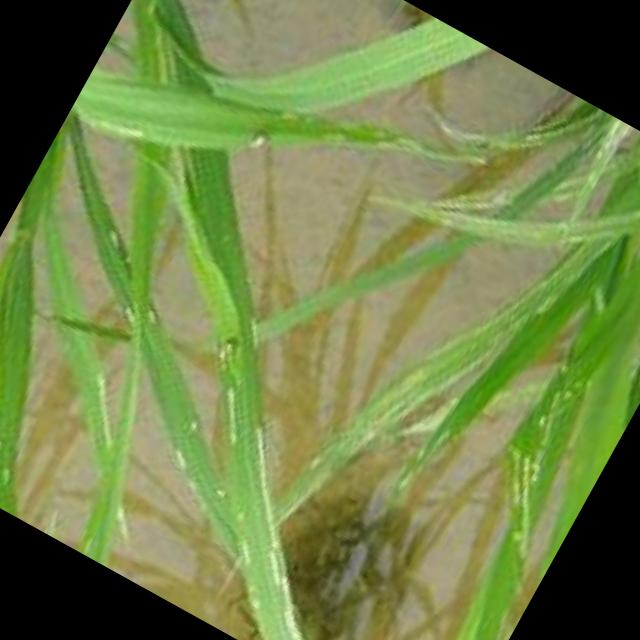rice-bug: (214, 328, 248, 366), (242, 120, 277, 155)
